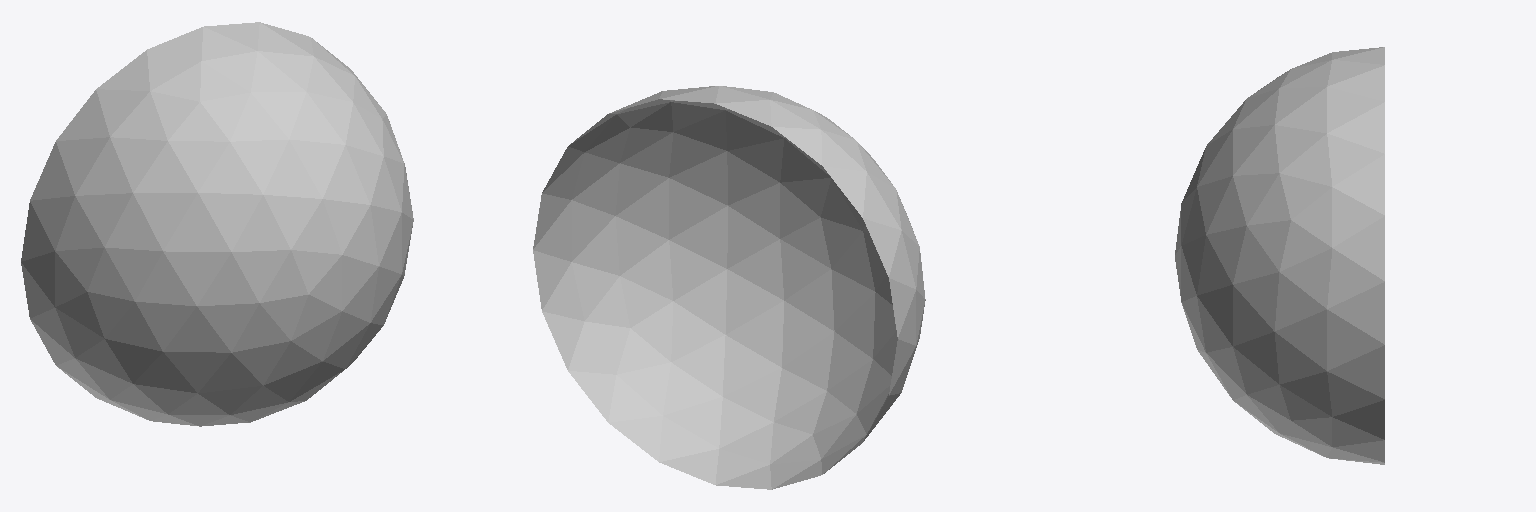
The model's file is hemisphere.obj.
3 views of the same model, side by side, from view 1: azimuth 30°, elevation 25°; view 2: azimuth 150°, elevation 25°; view 3: azimuth 270°, elevation 25° (orthographic).
Parts seen in each view (by area): view 1: Icosphere.001; view 2: Icosphere.001; view 3: Icosphere.001.
Boxes of the visible parts, box(x1,y1,x2,y2) form: Icosphere.001: box(21, 22, 413, 426); Icosphere.001: box(533, 86, 925, 489); Icosphere.001: box(1175, 47, 1384, 464).
Bounding box in the file's own units: 2 × 2 × 1.